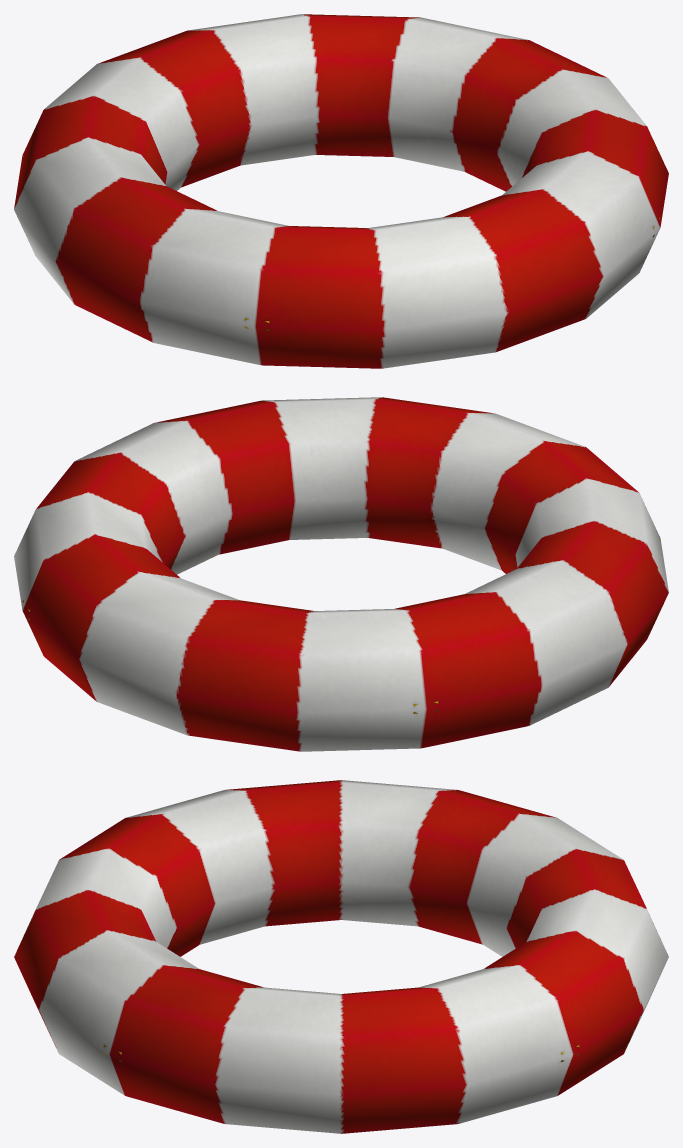
File: Floaties.fbx
3 views of the same model, one above another, from view 1: azimuth 30°, elevation 25°; view 2: azimuth 150°, elevation 25°; view 3: azimuth 270°, elevation 25° (orthographic).
Parts seen in each view (by area): view 1: Floaties; view 2: Floaties; view 3: Floaties.
Boxes of the visible parts, x1,y1,x2,y2 form: Floaties: [14, 14, 668, 368]; Floaties: [14, 397, 668, 751]; Floaties: [14, 780, 668, 1133].
Bounding box in the file's own units: 0.88 × 0.2 × 0.88.
